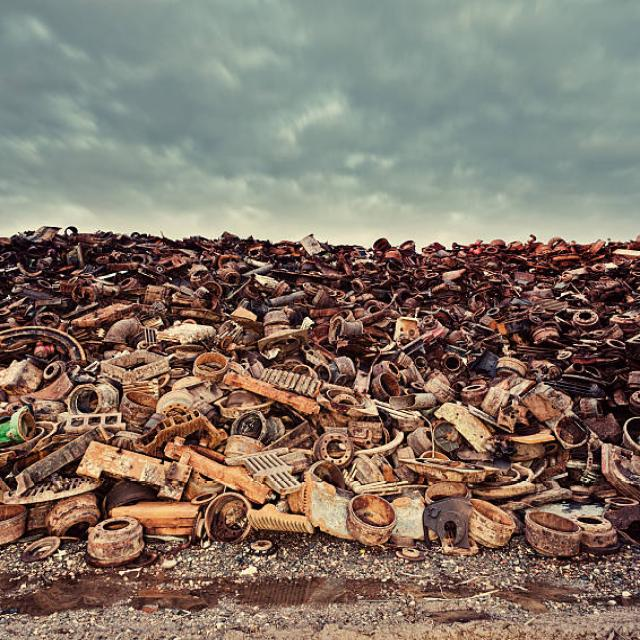trash: (1, 249, 633, 550)
